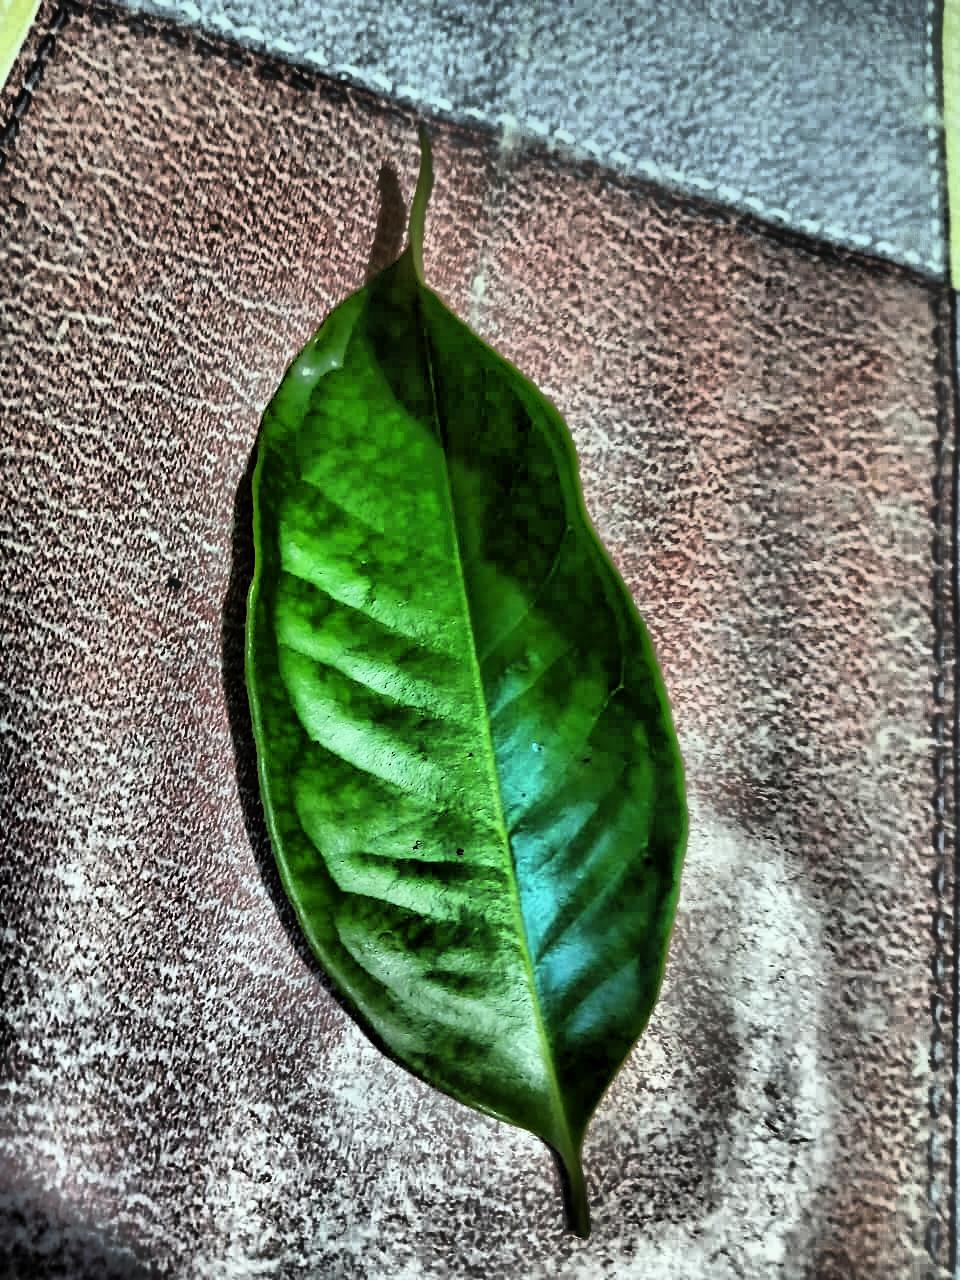daun salam: (245, 139, 686, 1233)
